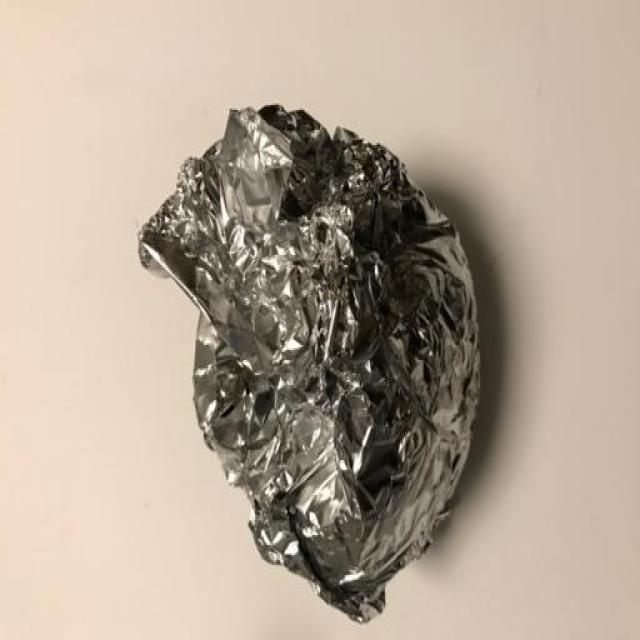metal: (136, 100, 482, 624)
